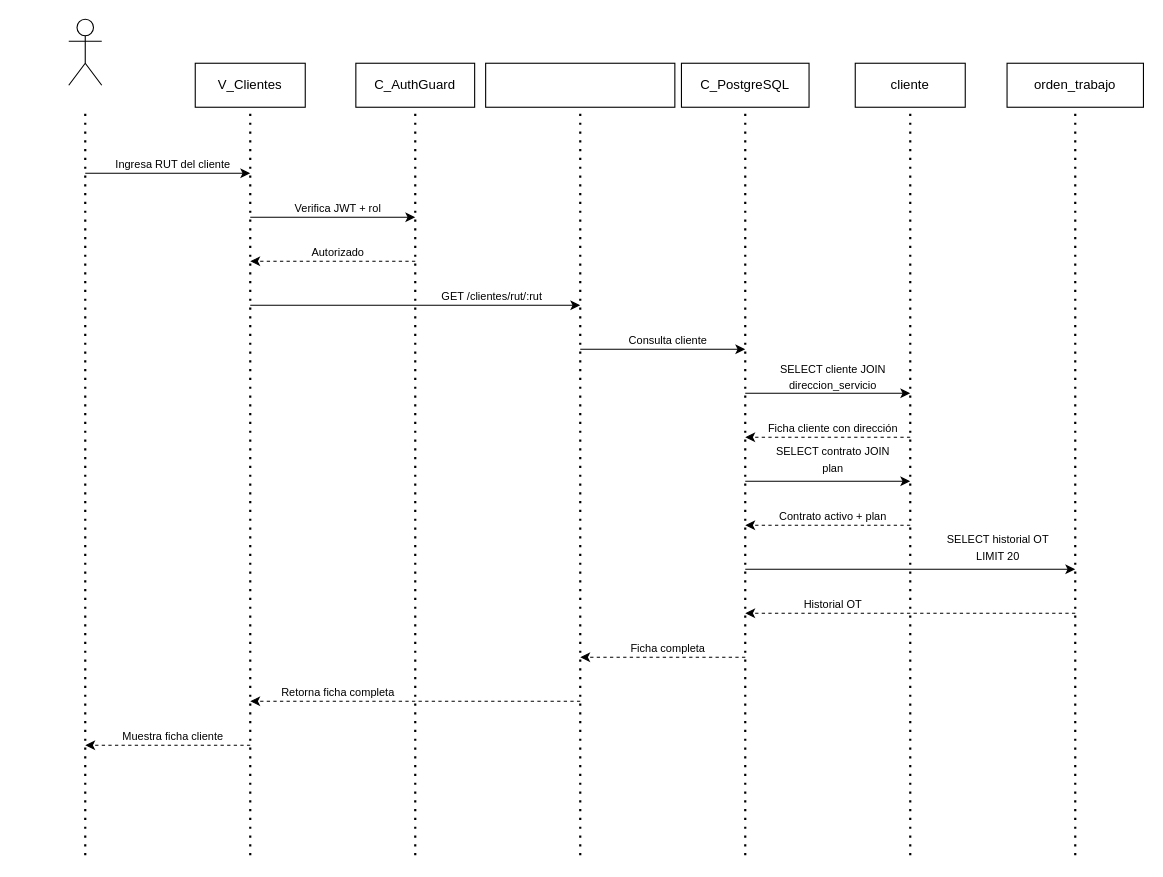
Some shapes in this 1163 by 877 pixel diagram are drawn without their labels. The centre of each missing label's shape, as x and y in pixels:
"C_ClienteController" belongs at point (580, 84).
"Jefe Técnico / Técnico" belongs at point (85, 51).
